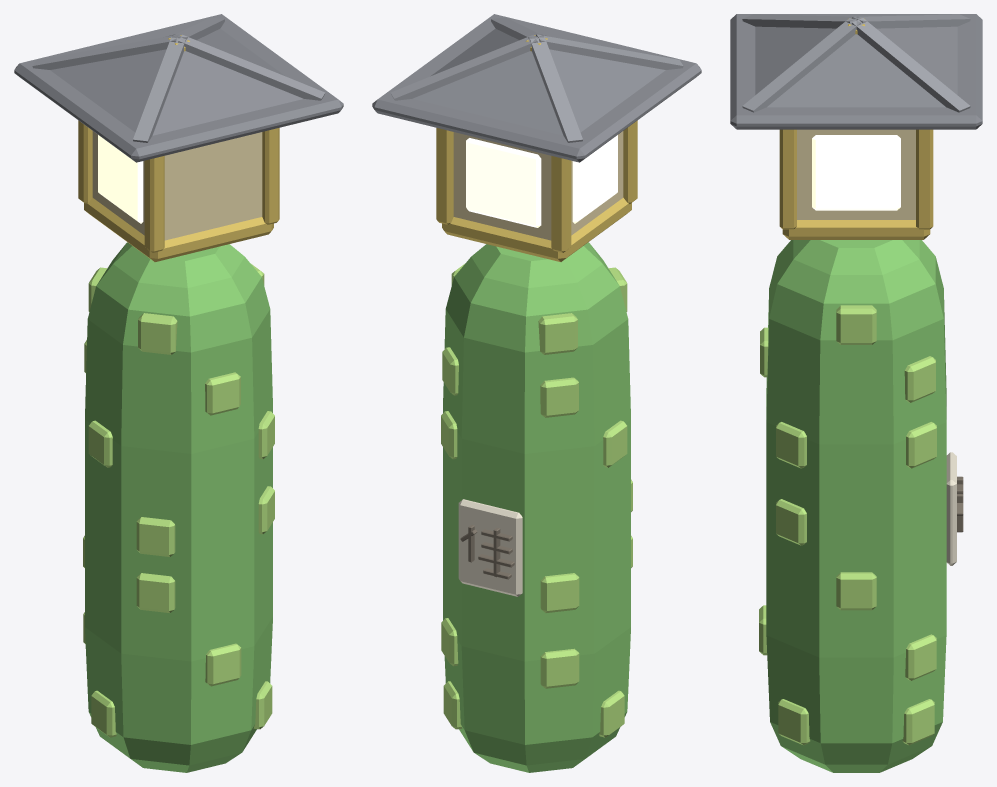
File: SamuraiLanternCucumber.fbx
The picture shows the model from 3 angles, left to right: view 1: azimuth 30°, elevation 25°; view 2: azimuth 150°, elevation 25°; view 3: azimuth 270°, elevation 25°; orthographic projection. The views are drawn at different scales.
Visible parts, largest first — view 1: SamuraiLanternCucumber.Body, SamuraiLanternCucumber.Roof, SamuraiLanternCucumber.Studs, SamuraiLanternCucumber.Lantern, SamuraiLanternCucumber.Frame, SamuraiLanternCucumber.RoofRidge, SamuraiLanternCucumber.Windows; view 2: SamuraiLanternCucumber.Body, SamuraiLanternCucumber.Roof, SamuraiLanternCucumber.Studs, SamuraiLanternCucumber.Windows, SamuraiLanternCucumber.Frame, SamuraiLanternCucumber.RoofRidge, SamuraiLanternCucumber.Tag, SamuraiLanternCucumber.Lantern, SamuraiLanternCucumber.Kanji; view 3: SamuraiLanternCucumber.Body, SamuraiLanternCucumber.Roof, SamuraiLanternCucumber.Studs, SamuraiLanternCucumber.RoofRidge, SamuraiLanternCucumber.Windows, SamuraiLanternCucumber.Frame, SamuraiLanternCucumber.Lantern, SamuraiLanternCucumber.Tag.
Part boxes in pixels (bbox=[...]): SamuraiLanternCucumber.Body: bbox=[85, 242, 272, 772]; SamuraiLanternCucumber.Roof: bbox=[14, 14, 343, 162]; SamuraiLanternCucumber.Studs: bbox=[83, 264, 274, 737]; SamuraiLanternCucumber.Lantern: bbox=[92, 131, 262, 240]; SamuraiLanternCucumber.Frame: bbox=[78, 35, 279, 261]; SamuraiLanternCucumber.RoofRidge: bbox=[32, 17, 325, 142]; SamuraiLanternCucumber.Windows: bbox=[98, 135, 143, 223]; SamuraiLanternCucumber.Body: bbox=[443, 242, 630, 772]; SamuraiLanternCucumber.Roof: bbox=[372, 14, 701, 162]; SamuraiLanternCucumber.Studs: bbox=[441, 264, 632, 737]; SamuraiLanternCucumber.Windows: bbox=[466, 135, 617, 227]; SamuraiLanternCucumber.Frame: bbox=[436, 35, 637, 261]; SamuraiLanternCucumber.RoofRidge: bbox=[390, 17, 683, 142]; SamuraiLanternCucumber.Tag: bbox=[458, 499, 522, 596]; SamuraiLanternCucumber.Lantern: bbox=[453, 131, 623, 240]; SamuraiLanternCucumber.Kanji: bbox=[460, 524, 514, 579]; SamuraiLanternCucumber.Body: bbox=[766, 240, 946, 772]; SamuraiLanternCucumber.Roof: bbox=[730, 14, 982, 129]; SamuraiLanternCucumber.Studs: bbox=[759, 305, 936, 745]; SamuraiLanternCucumber.RoofRidge: bbox=[742, 14, 970, 112]; SamuraiLanternCucumber.Windows: bbox=[812, 135, 900, 210]; SamuraiLanternCucumber.Frame: bbox=[779, 18, 933, 239]; SamuraiLanternCucumber.Lantern: bbox=[797, 129, 915, 219]; SamuraiLanternCucumber.Tag: bbox=[946, 452, 956, 565].
Bounding box in the file's own units: 1.76 × 5.62 × 1.76.
